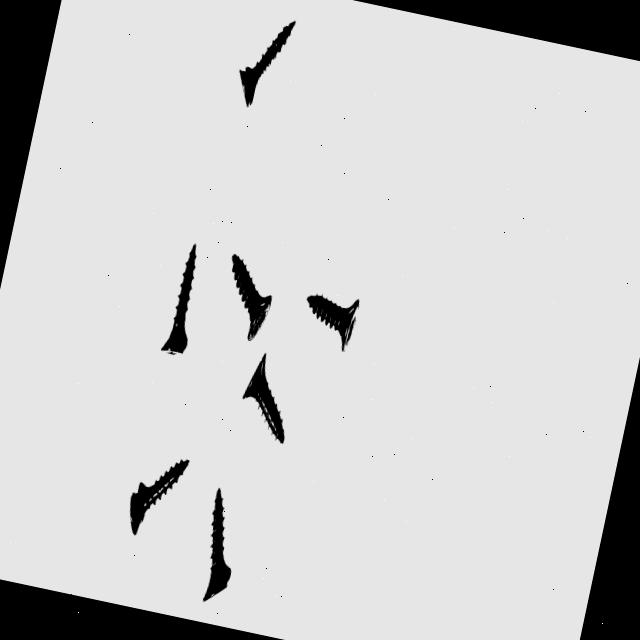Screw: (238, 21, 294, 107), (129, 461, 187, 536), (242, 354, 284, 445), (161, 245, 195, 356), (231, 255, 271, 342), (202, 490, 230, 604), (306, 296, 359, 352)
